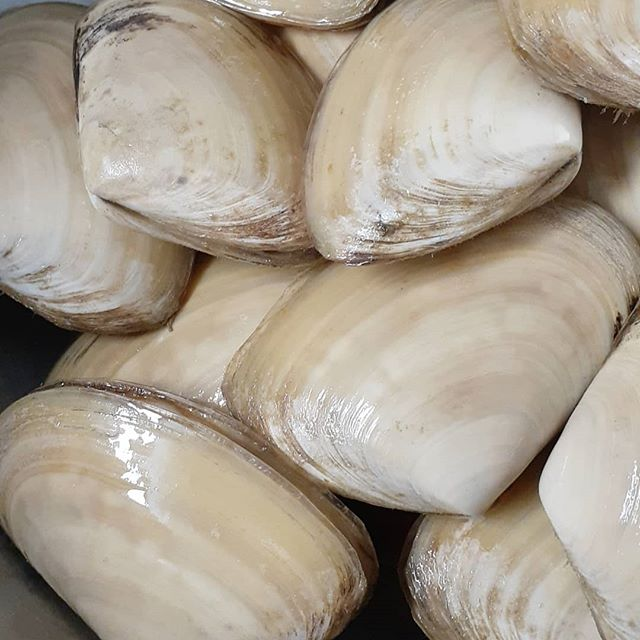tuatua: (226, 191, 640, 530), (2, 372, 379, 640), (297, 1, 585, 273), (70, 3, 330, 271), (1, 8, 200, 339), (536, 290, 636, 640)
